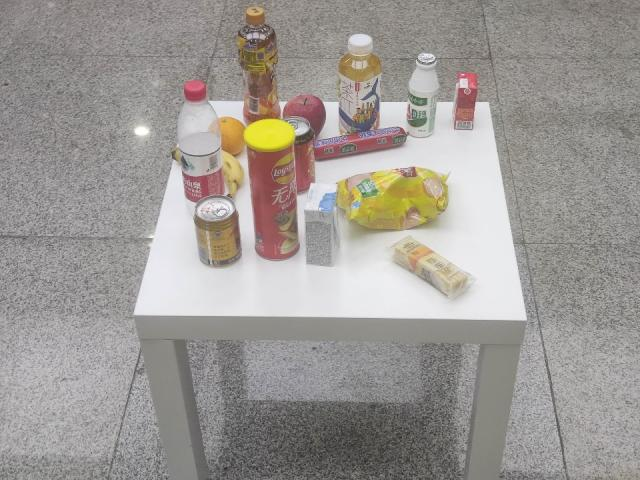Canned_drinks: (195, 194, 242, 268), (282, 114, 318, 193)
bottle: (168, 77, 224, 207), (237, 6, 282, 119), (337, 34, 381, 132), (404, 53, 439, 138)
cylinder: (242, 114, 299, 264)
drink_box: (299, 169, 347, 270), (445, 66, 481, 133)
